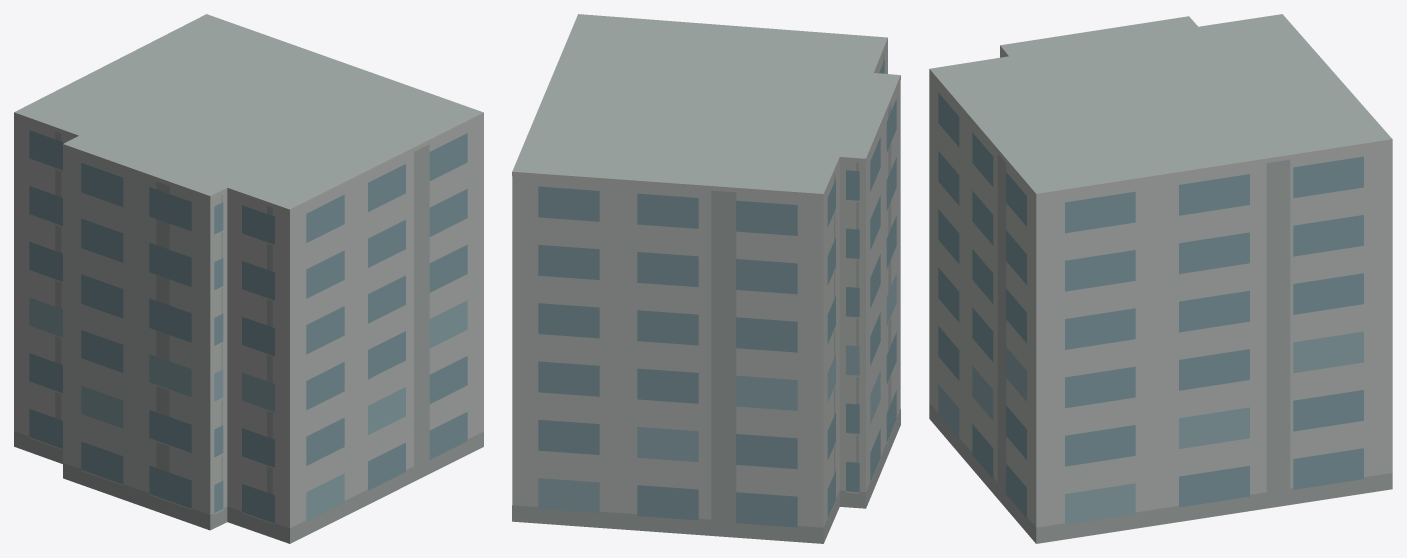
File: survey-upis-32953684.glb
3 renders of one model, left to right at view 1: azimuth 30°, elevation 25°; view 2: azimuth 150°, elevation 25°; view 3: azimuth 270°, elevation 25°, orthographic. The views are drawn at different scales.
Parts seen in each view (by area): view 1: survey-upis-32953684.tmp; view 2: survey-upis-32953684.tmp; view 3: survey-upis-32953684.tmp.
Part boxes in pixels (left/top/right/bottom): survey-upis-32953684.tmp: left=14, top=14, right=483, bottom=543; survey-upis-32953684.tmp: left=512, top=14, right=900, bottom=543; survey-upis-32953684.tmp: left=929, top=14, right=1392, bottom=543.
Bounding box in the file's own units: 20.18 × 18.3 × 21.96.
